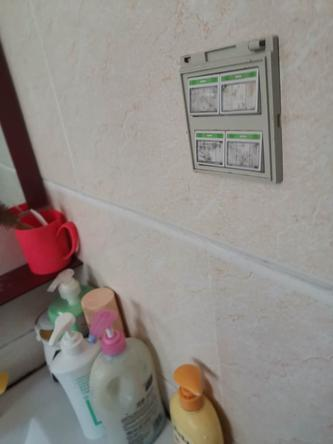switch: (217, 65, 261, 118), (223, 128, 268, 173), (189, 125, 228, 170), (185, 74, 225, 117)
